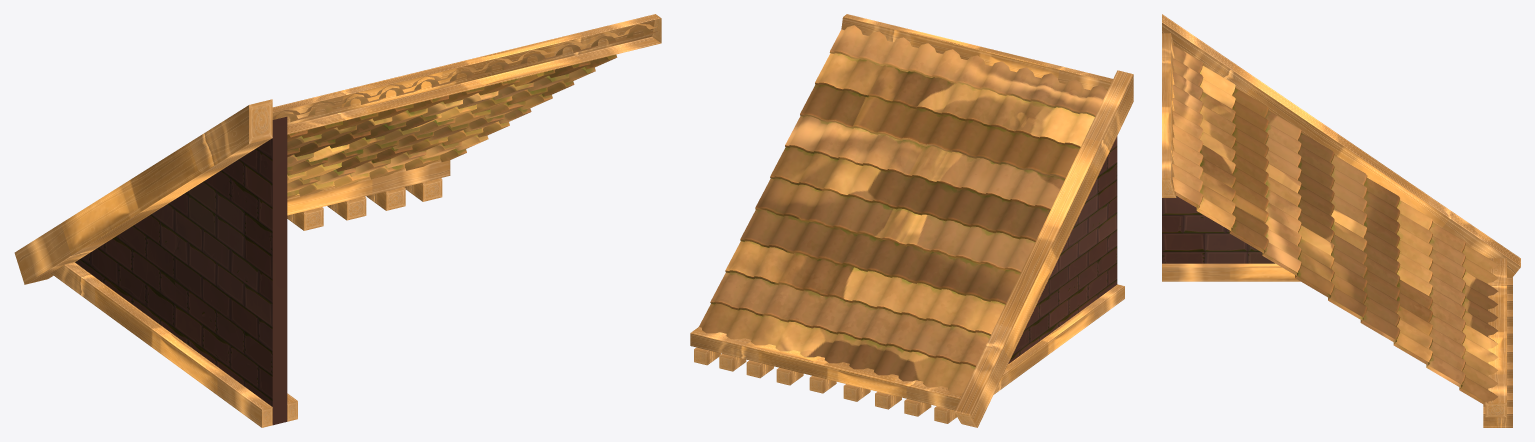
Rendered from SM_Roof_01.fbx.
3 views of the same model, side by side, from view 1: azimuth 30°, elevation 25°; view 2: azimuth 150°, elevation 25°; view 3: azimuth 270°, elevation 25° (orthographic). The views are drawn at different scales.
Parts seen in each view (by area): view 1: SM_Roof_01_LOD0; view 2: SM_Roof_01_LOD0; view 3: SM_Roof_01_LOD0.
Part boxes in pixels (<box>): SM_Roof_01_LOD0: <box>14,14,661,427</box>; SM_Roof_01_LOD0: <box>690,14,1133,427</box>; SM_Roof_01_LOD0: <box>1162,14,1520,427</box>.
Bounding box in the file's own units: 424 × 418 × 339.
